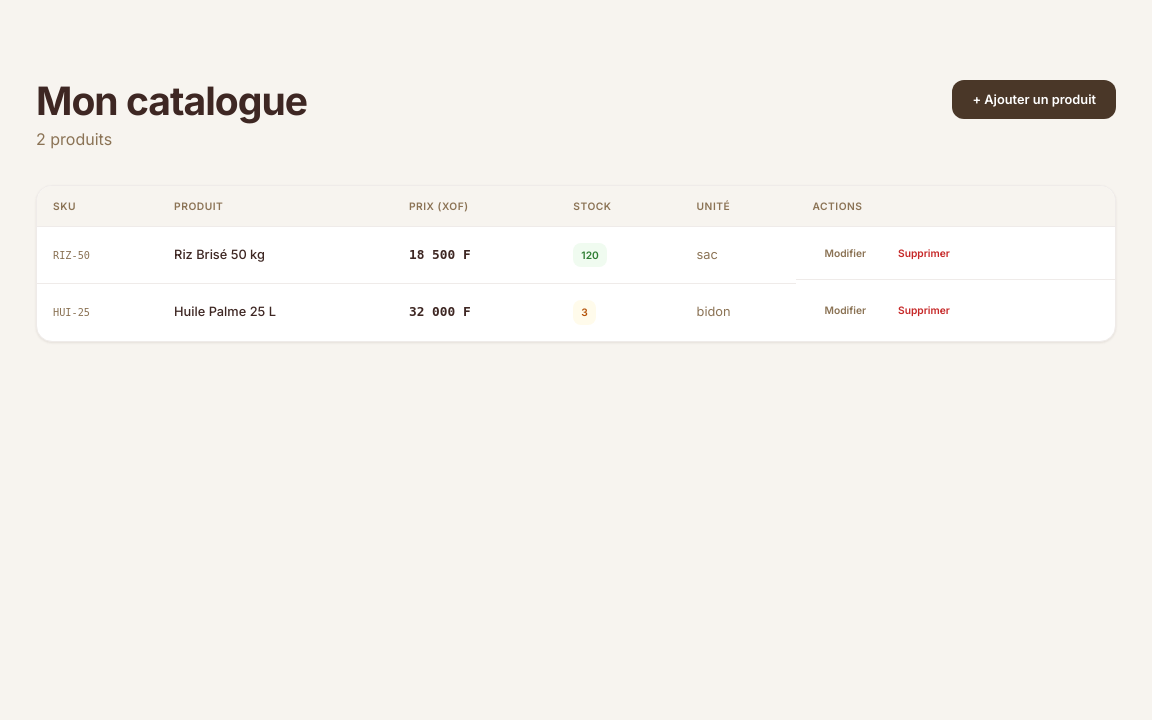
Test case: ProductManager — UC-01, UC-02 › shows validation error on blur for empty required fields
Click the button with test id "pm-add-btn".
click(1034, 100)  # box [952,80,1116,119]
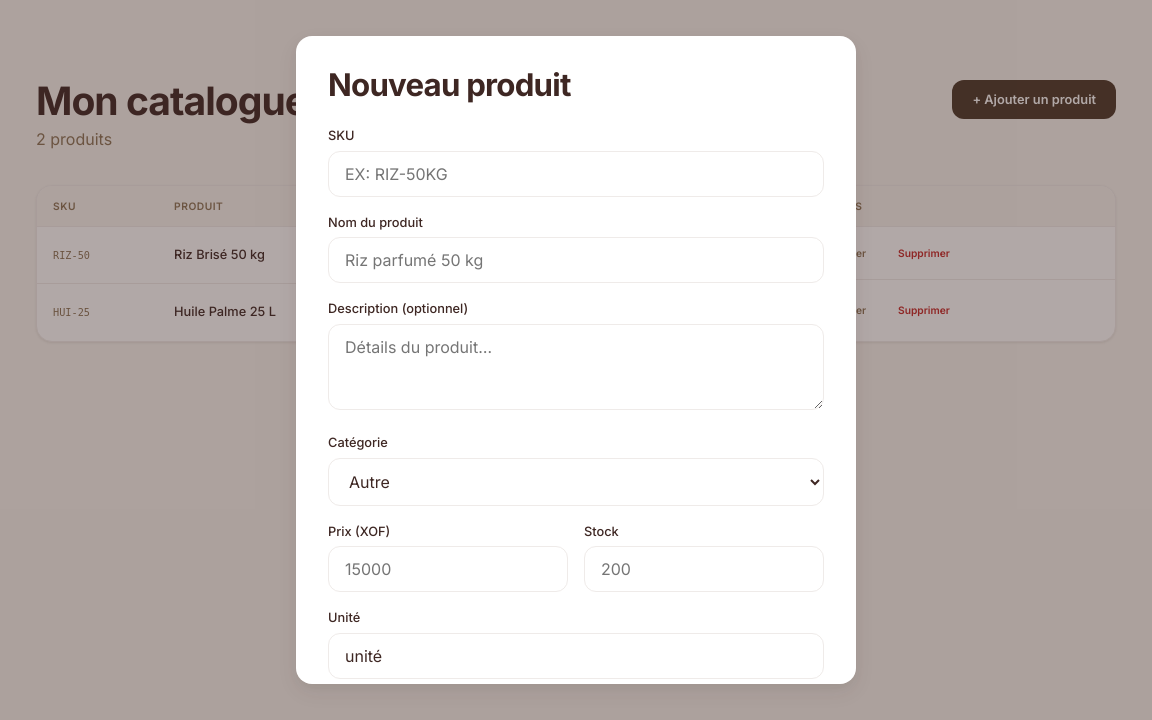
Leave the field with test id "pm-field-sku", box [328,151,824,197]
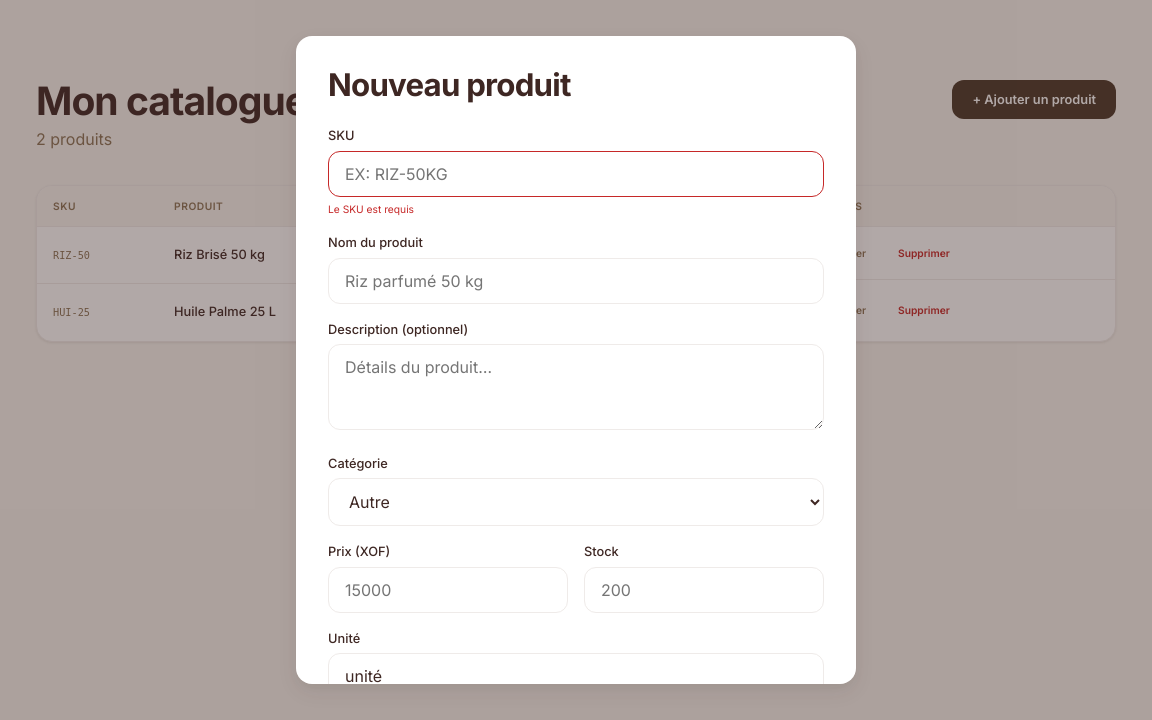
expect the text "Le SKU est requis" is shown: met, box [328,203,414,215]
Leave the field with test id "pm-field-name", box [328,258,824,304]
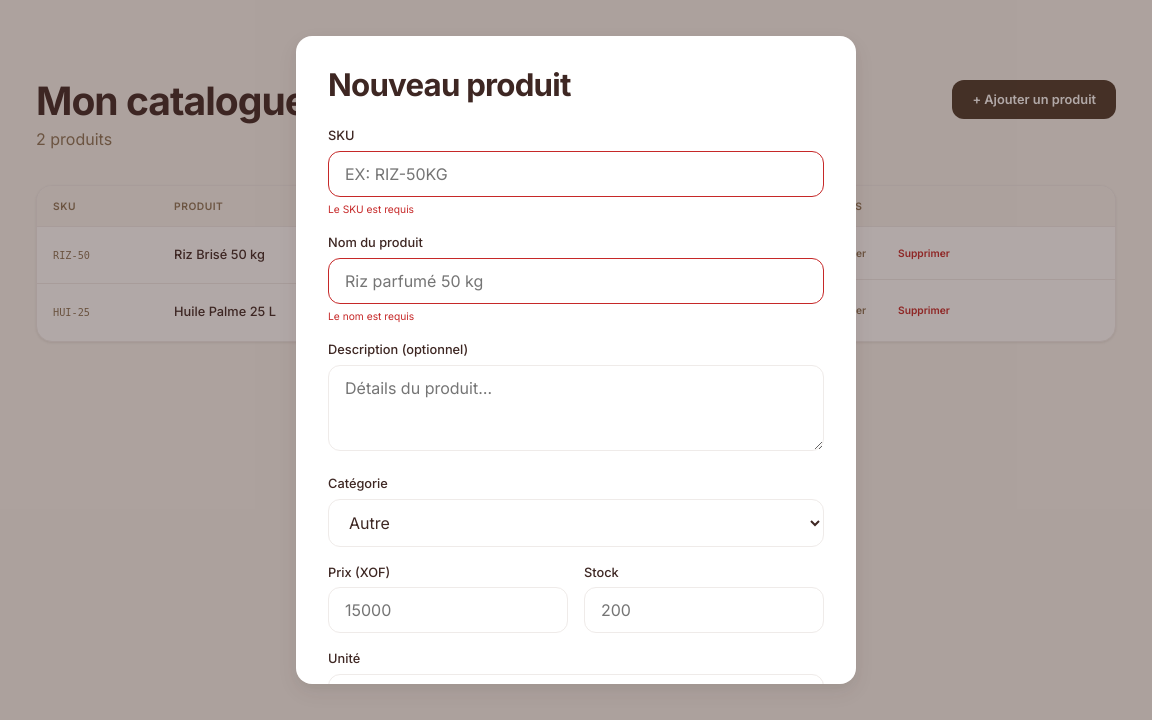
expect the text "Le nom est requis" is shown: met, box [328,310,414,322]
